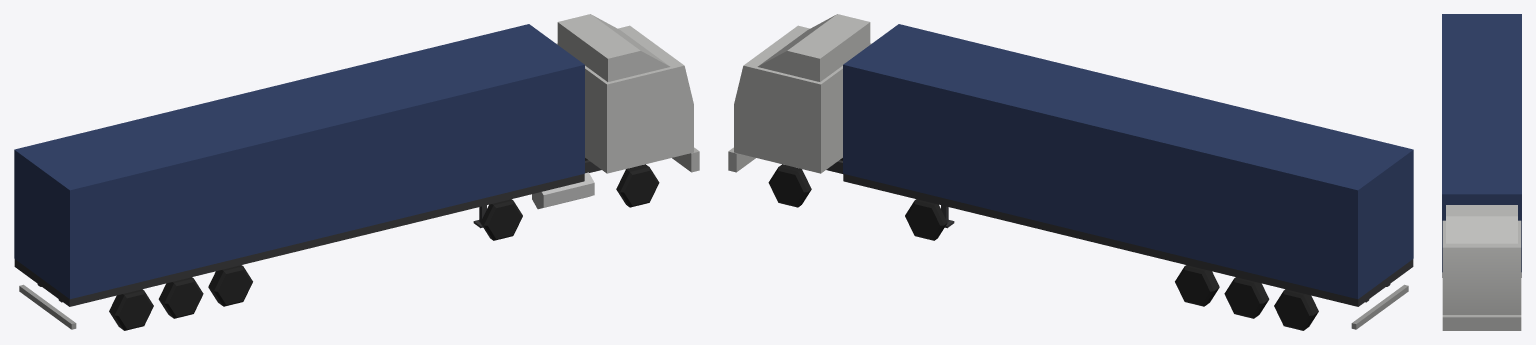
Rendered from SM_Prop_services_lorry_2_LOD2.glb.
The picture shows the model from 3 angles, left to right: view 1: azimuth 30°, elevation 25°; view 2: azimuth 150°, elevation 25°; view 3: azimuth 270°, elevation 25°; orthographic projection. The views are drawn at different scales.
Parts seen in each view (by area): view 1: SM_Prop_services_lorry_2_LOD2; view 2: SM_Prop_services_lorry_2_LOD2; view 3: SM_Prop_services_lorry_2_LOD2.
Part boxes in pixels (bbox=[...]): SM_Prop_services_lorry_2_LOD2: bbox=[14, 14, 699, 330]; SM_Prop_services_lorry_2_LOD2: bbox=[728, 14, 1413, 330]; SM_Prop_services_lorry_2_LOD2: bbox=[1442, 14, 1521, 330].
Size of the model in its own units: 16.65 by 3.93 by 2.55.
